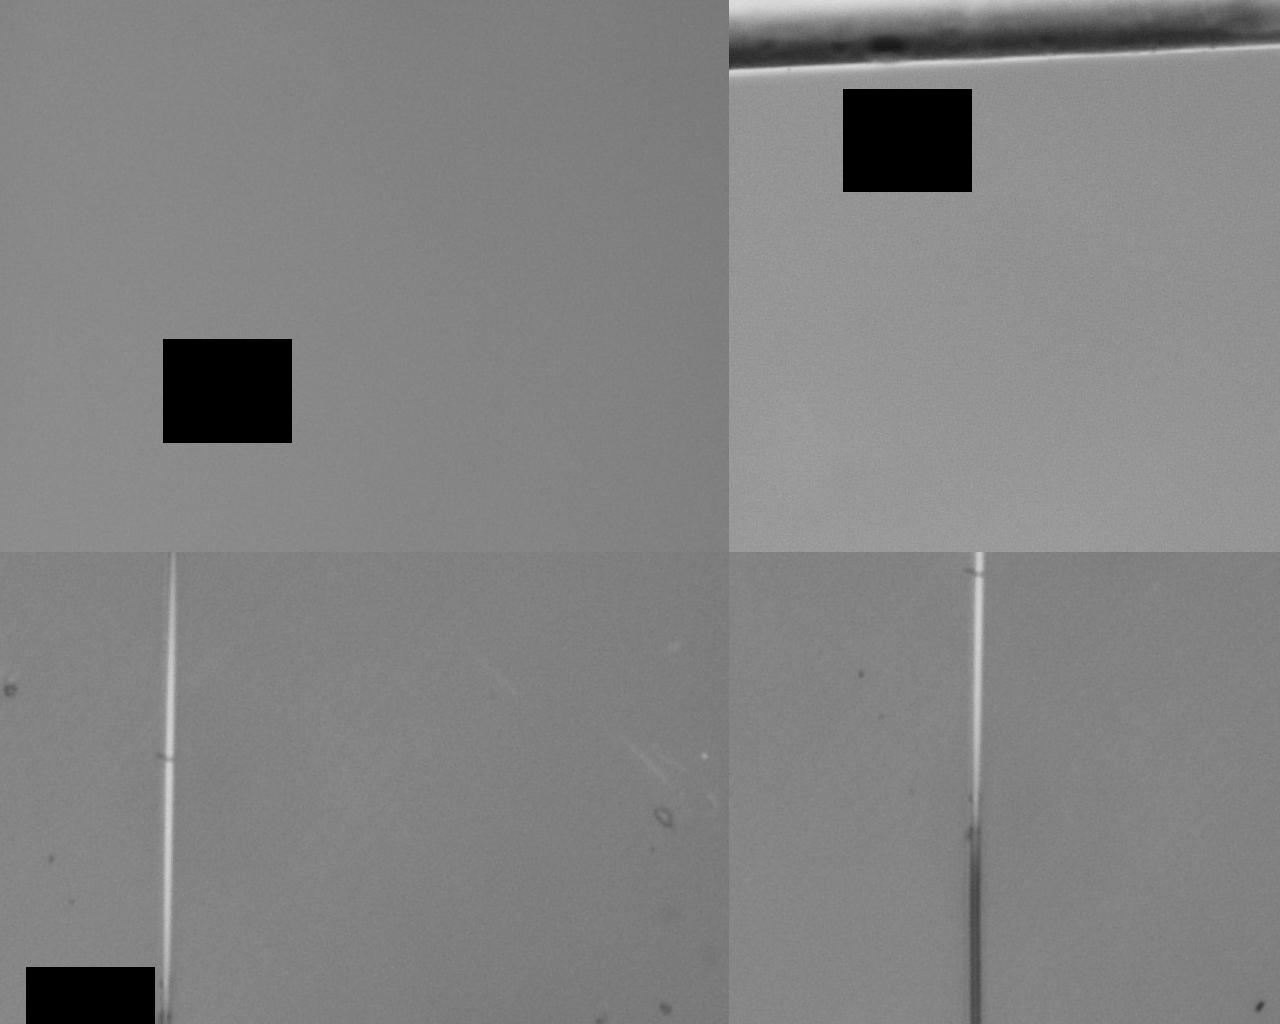fiber: (521, 0, 1119, 604), (588, 883, 1280, 1024), (0, 949, 512, 1024), (0, 410, 512, 425)
